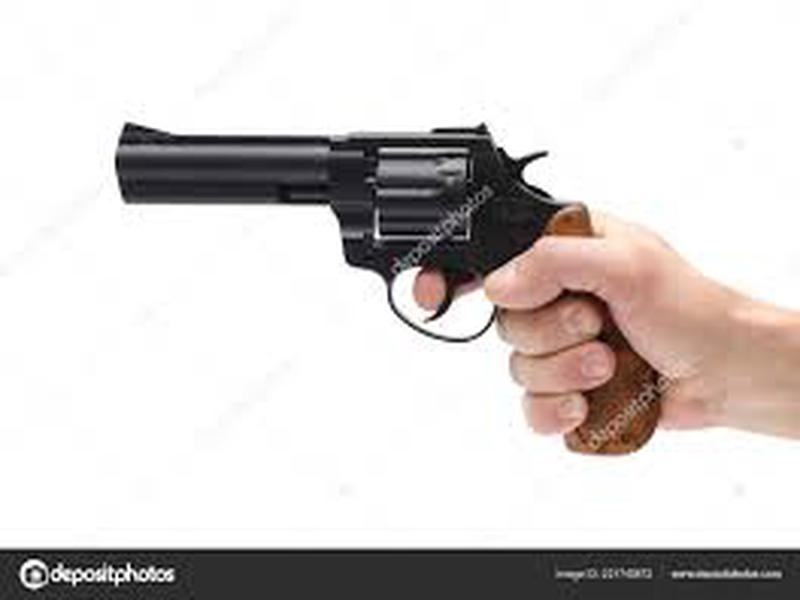Revolver: (102, 92, 605, 454)
